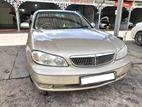car: (20, 9, 131, 92)
